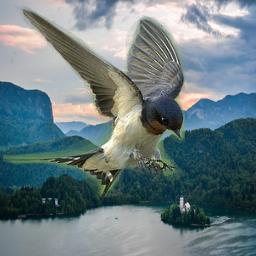Swallow: (3, 4, 185, 197)
